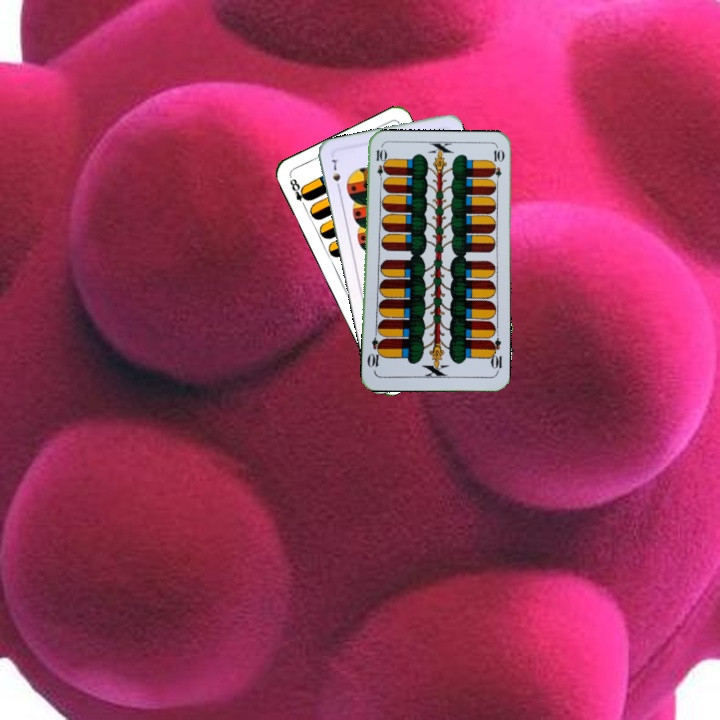E10: (485, 335, 504, 375), (372, 145, 386, 186)
E8: (286, 174, 312, 211)
S7: (328, 153, 343, 193)
